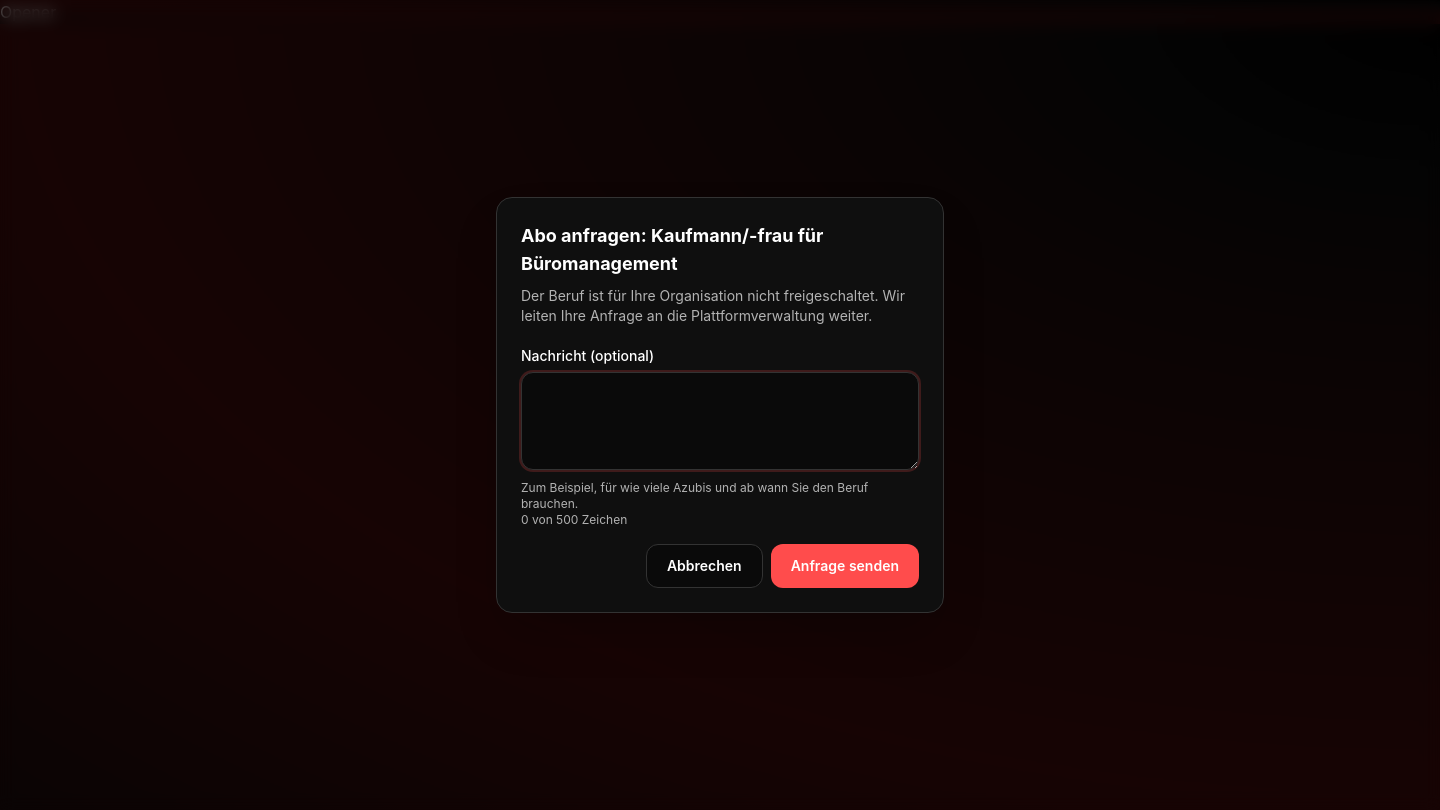
it: CatalogRequestDialog › errors (German text per code, the form stays open) › 409 {"code":"ALREADY_ENABLED"}
The width and height of the screenshot is (1440, 810).
Type "x" into the text box labelled "Nachricht (optional)" at (720, 421), box [521,372,919,470]
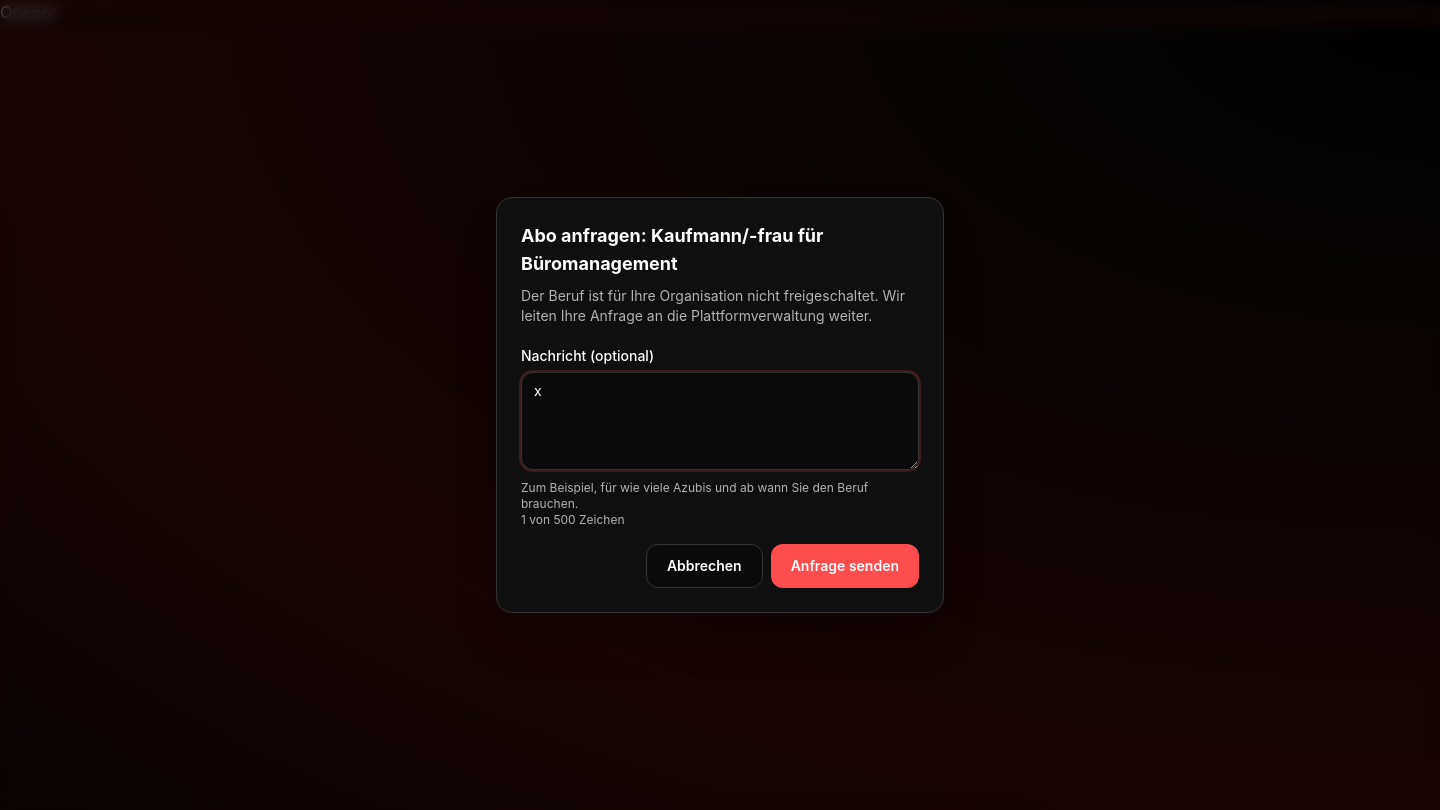
Click the button "Anfrage senden" at (845, 566), box [771,544,919,588]
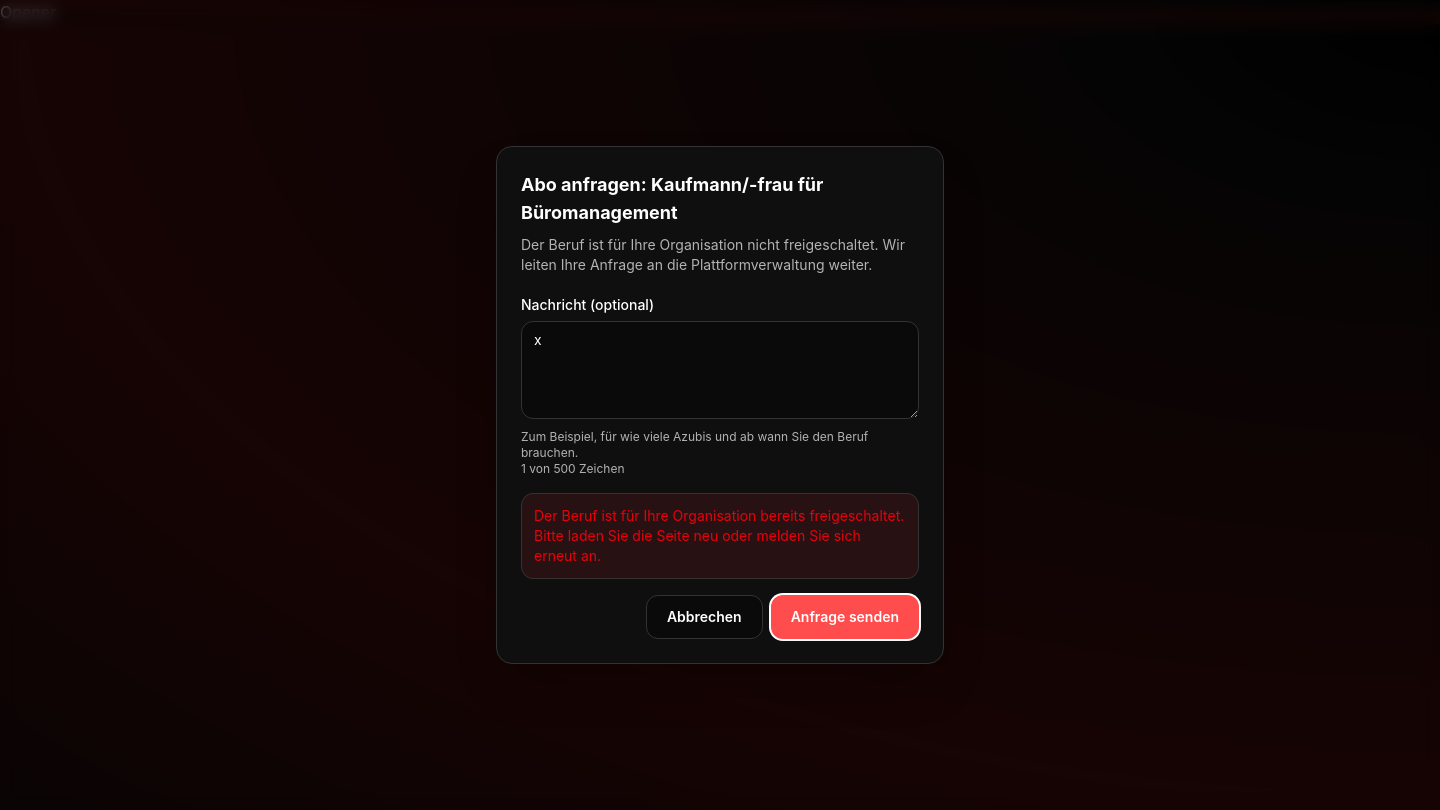
Now the message shows "Der Beruf ist für Ihre Organisation bereits freigeschaltet.", box [534,507,904,564]
